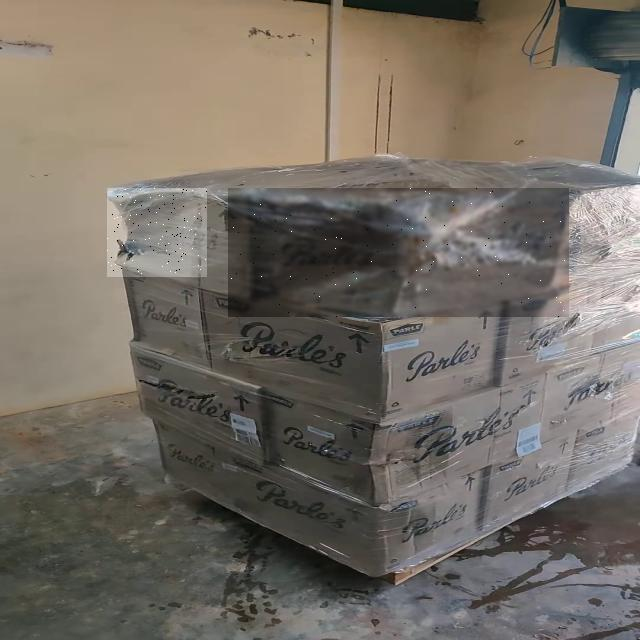squeeze: (228, 188, 569, 317), (107, 188, 207, 277)
